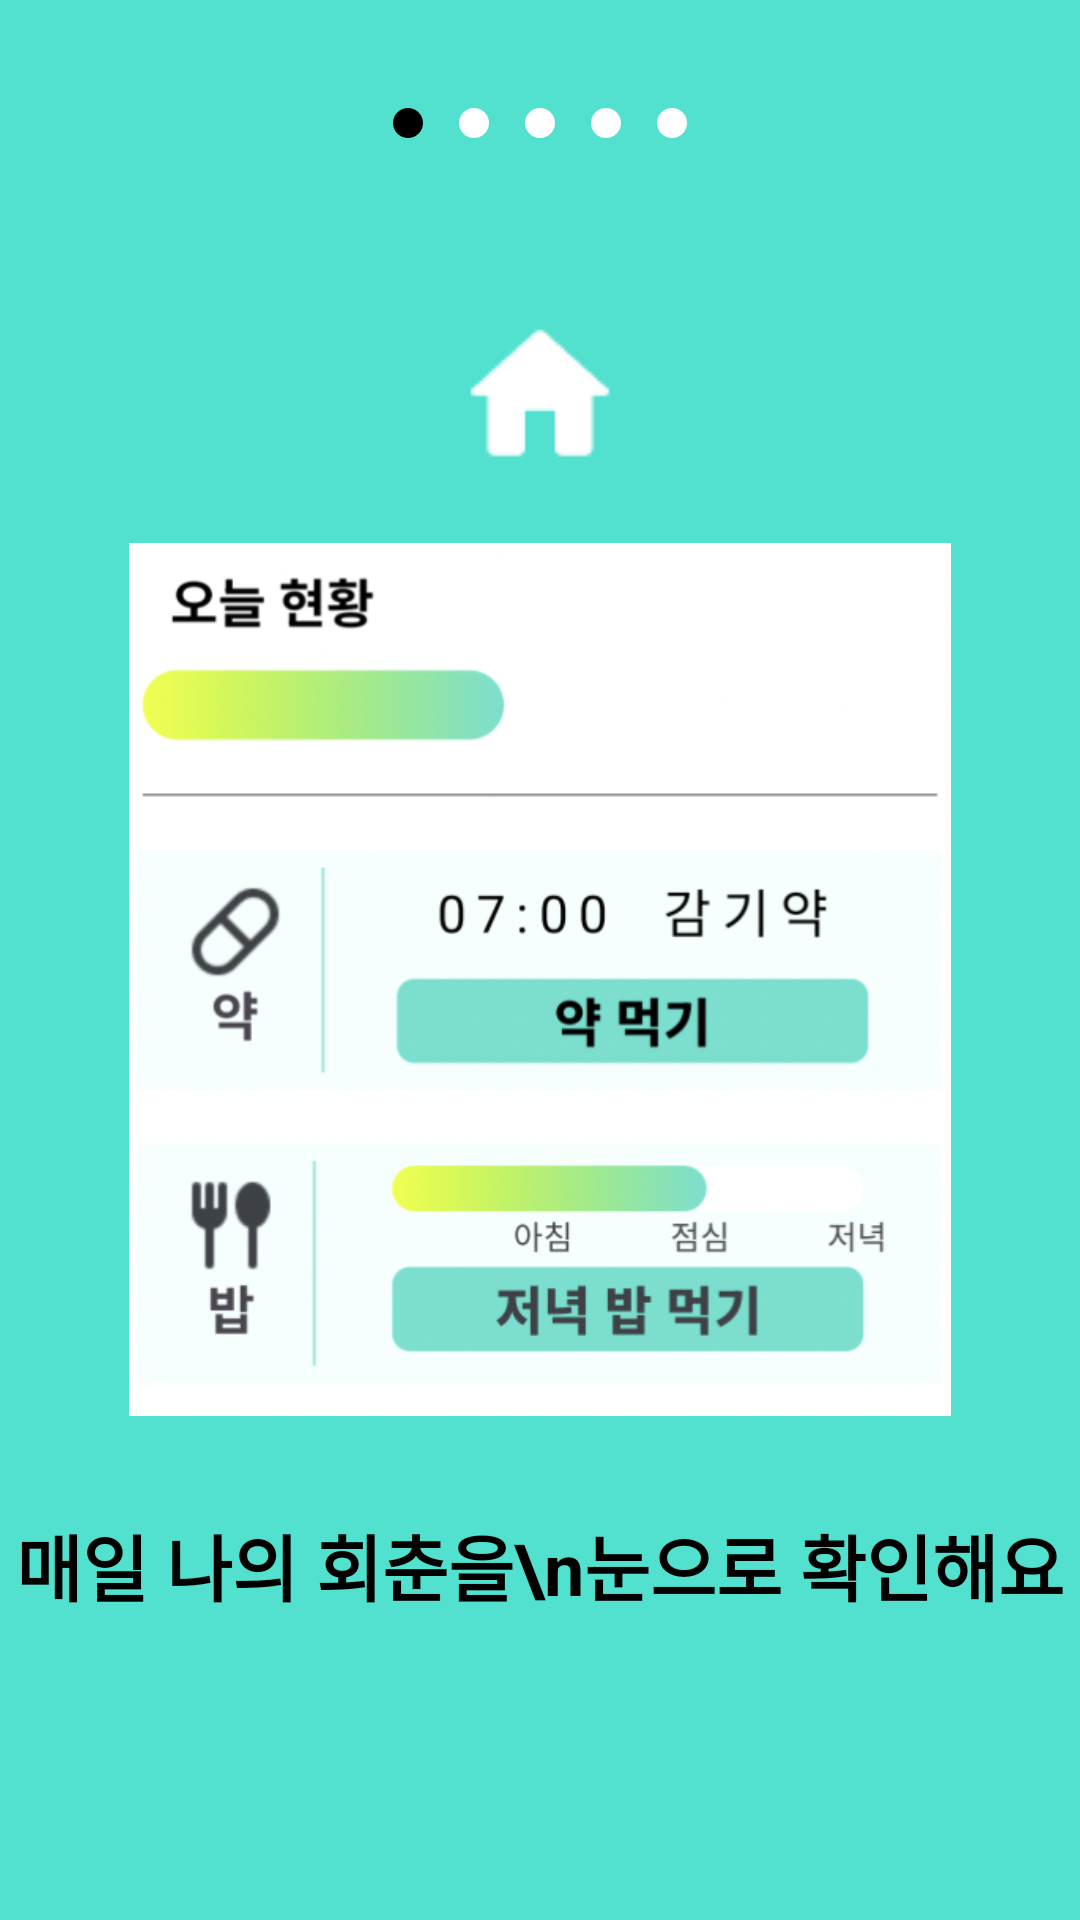

Icon click points for this 1080*1920 phone screenshot, format point (x, y):
home: point (540, 393)
